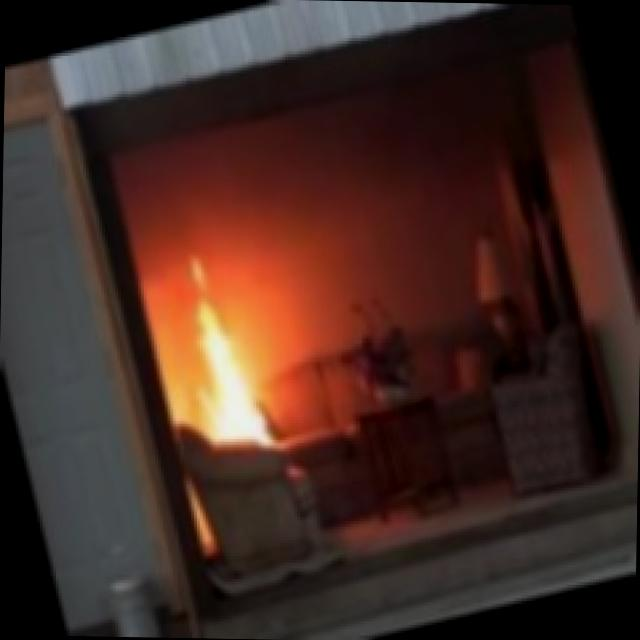fire: (130, 240, 280, 442)
